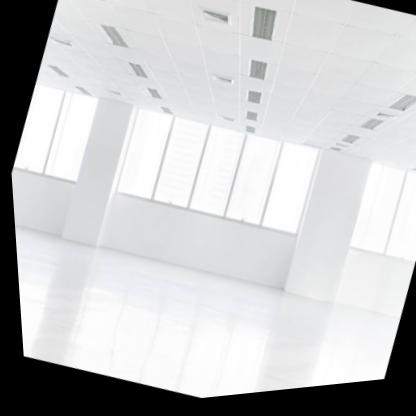Window: (107, 93, 324, 254)
